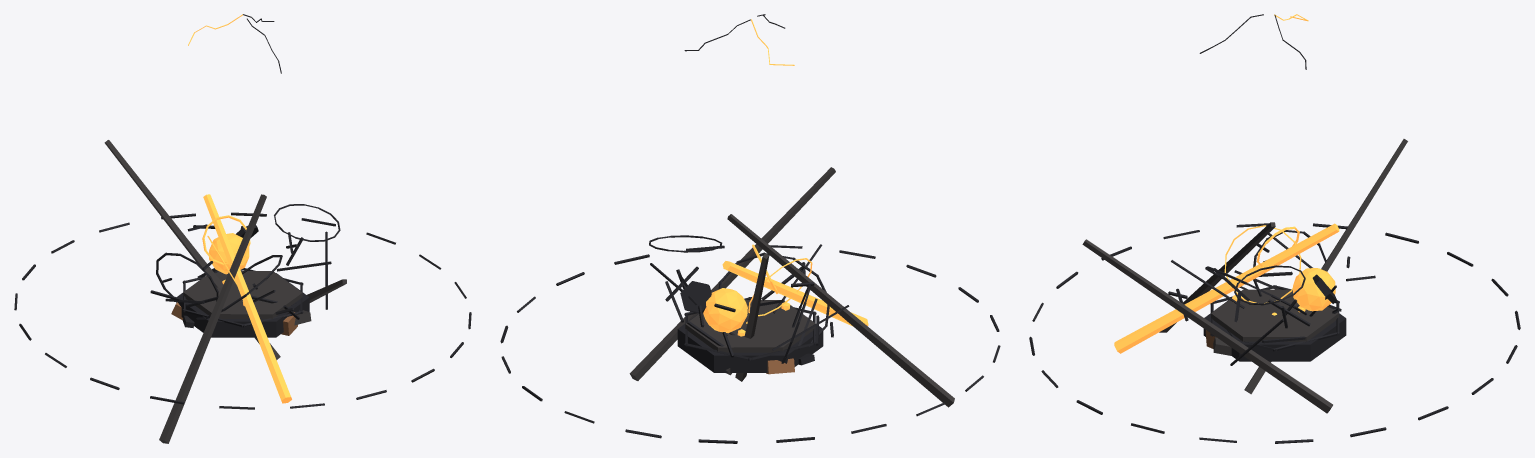
File: Wreck_PowerPylon.fbx
The picture shows the model from 3 angles, left to right: view 1: azimuth 30°, elevation 25°; view 2: azimuth 150°, elevation 25°; view 3: azimuth 270°, elevation 25°; orthographic projection. The views are drawn at different scales.
Parts seen in each view (by area): view 1: Wreck_PowerPylon; view 2: Wreck_PowerPylon; view 3: Wreck_PowerPylon.
Boxes of the visible parts, left/top/right/bottom form: Wreck_PowerPylon: left=14, top=14, right=471, bottom=443; Wreck_PowerPylon: left=500, top=14, right=1000, bottom=443; Wreck_PowerPylon: left=1029, top=14, right=1520, bottom=443.
Size of the model in its own units: 2.61 by 2.27 by 2.62.
